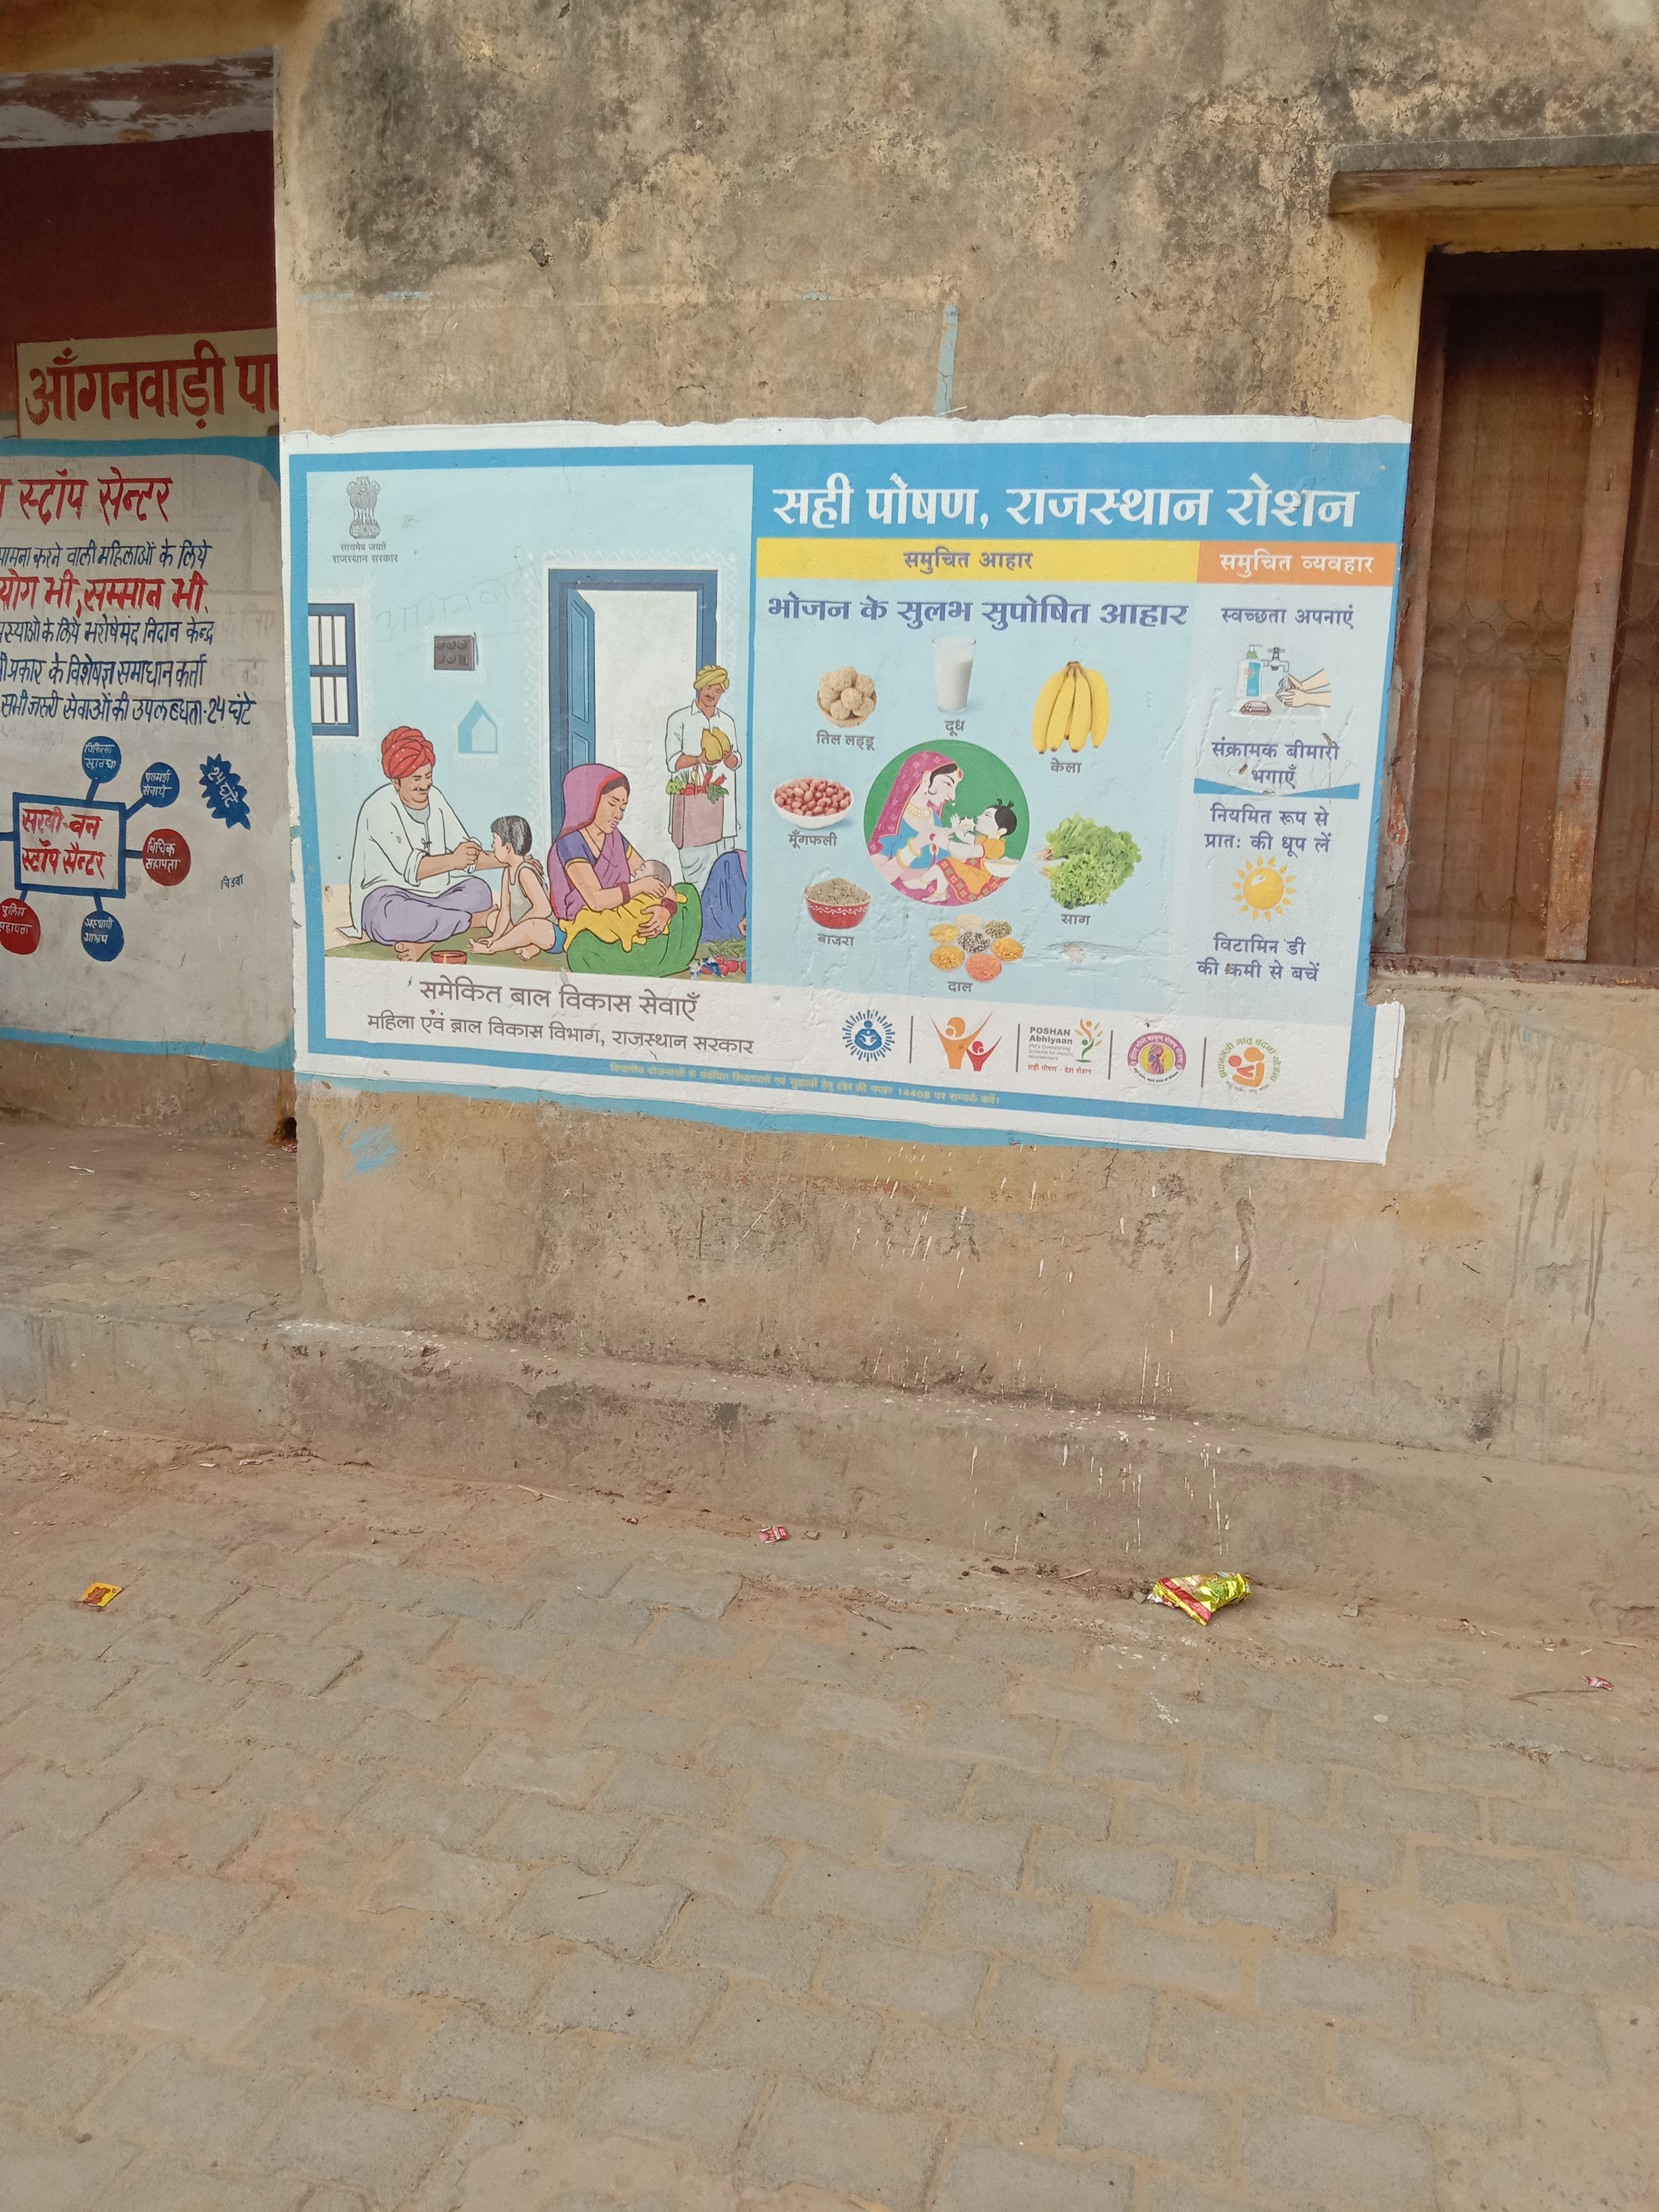text: (284, 411, 1425, 1163), (0, 327, 305, 1103)
